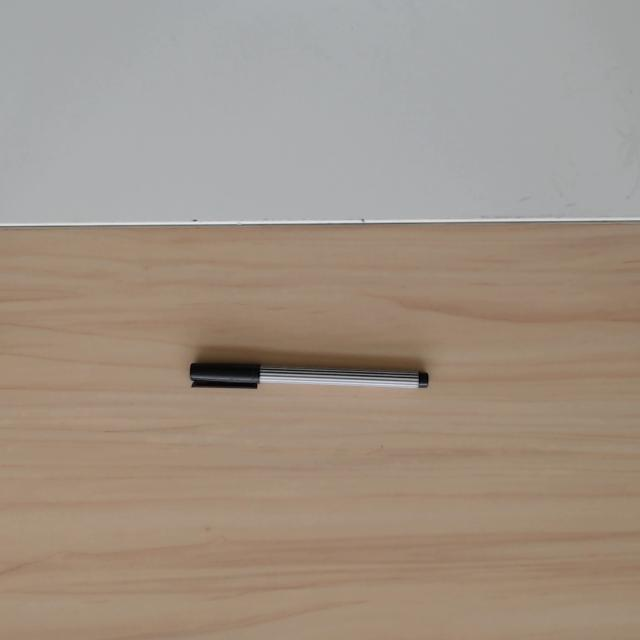Pulpen-Garis-Hitam: (189, 362, 430, 392)
